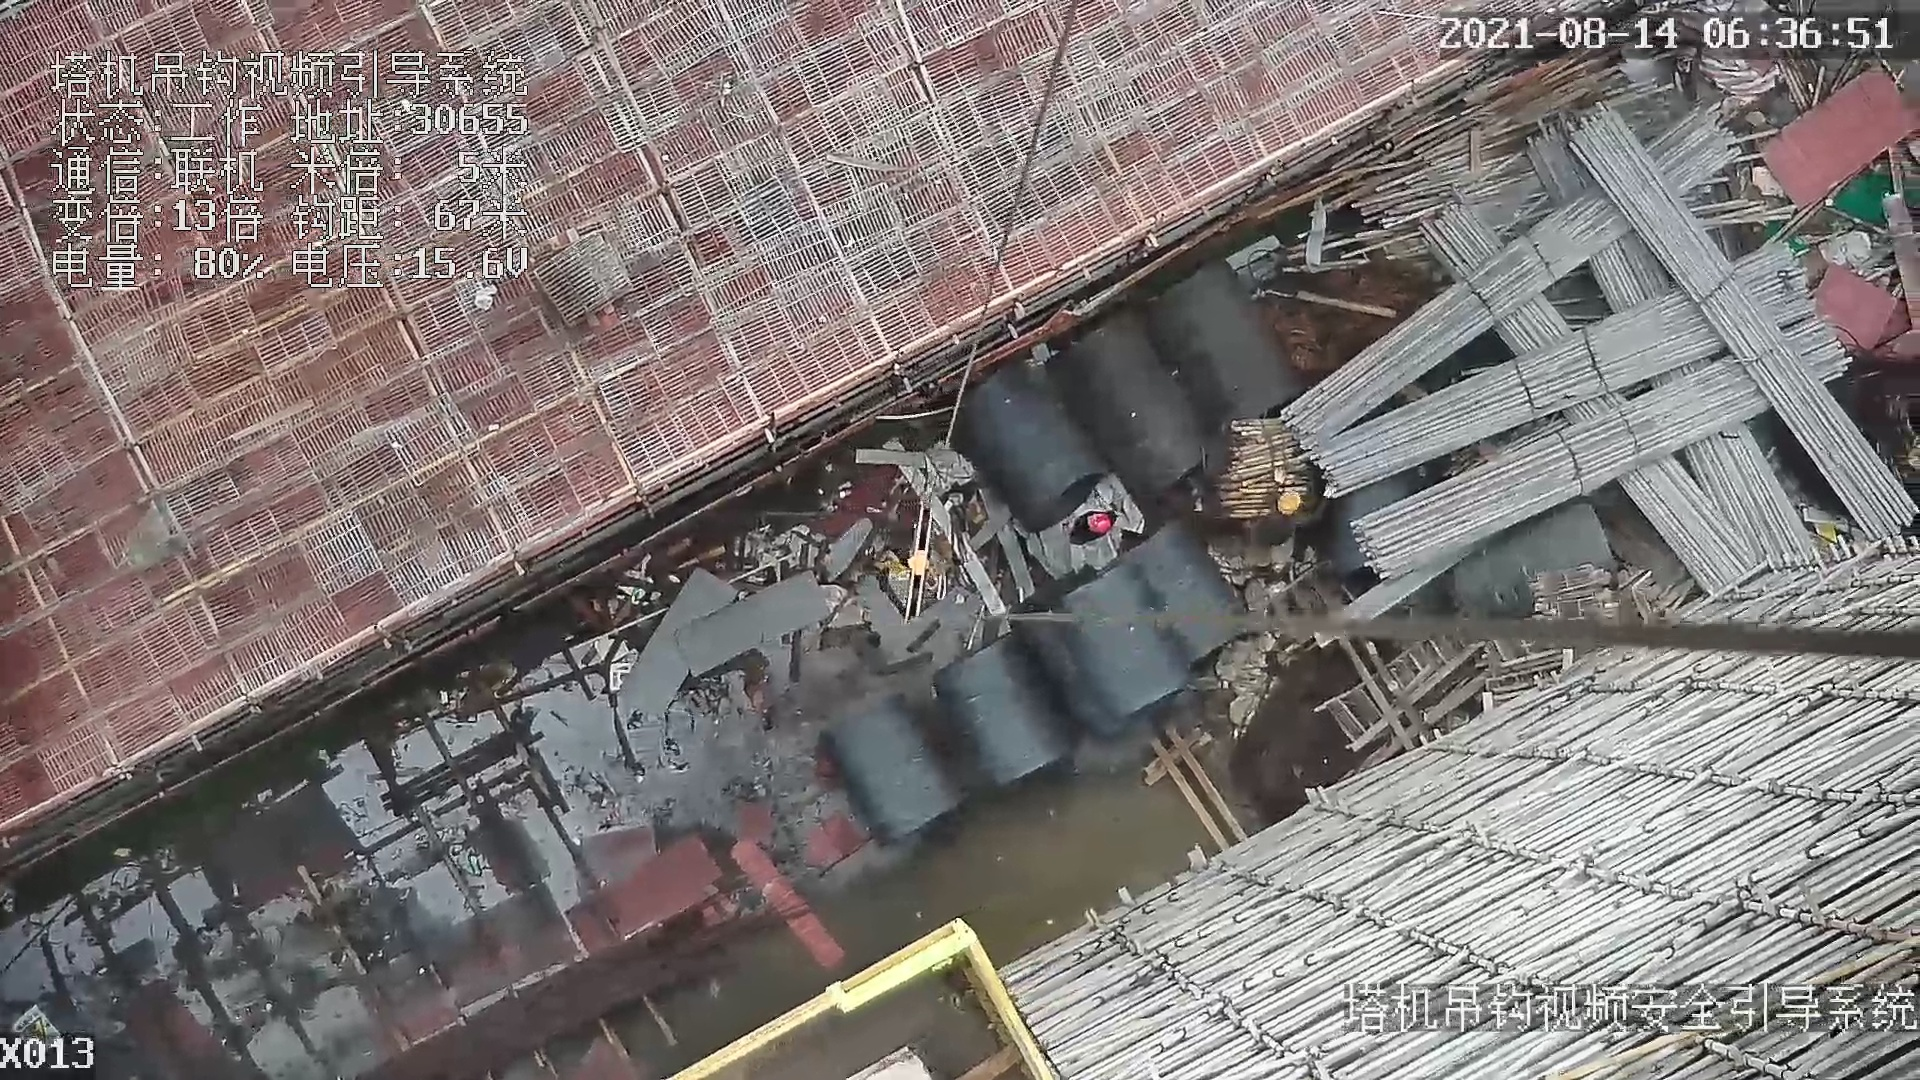helmet: (1269, 487, 1303, 518), (1083, 509, 1115, 539)
hook: (905, 509, 954, 623)
person: (1240, 481, 1303, 547), (1068, 505, 1127, 555)
scaffold: (1318, 94, 1917, 589), (1200, 399, 1317, 512)
